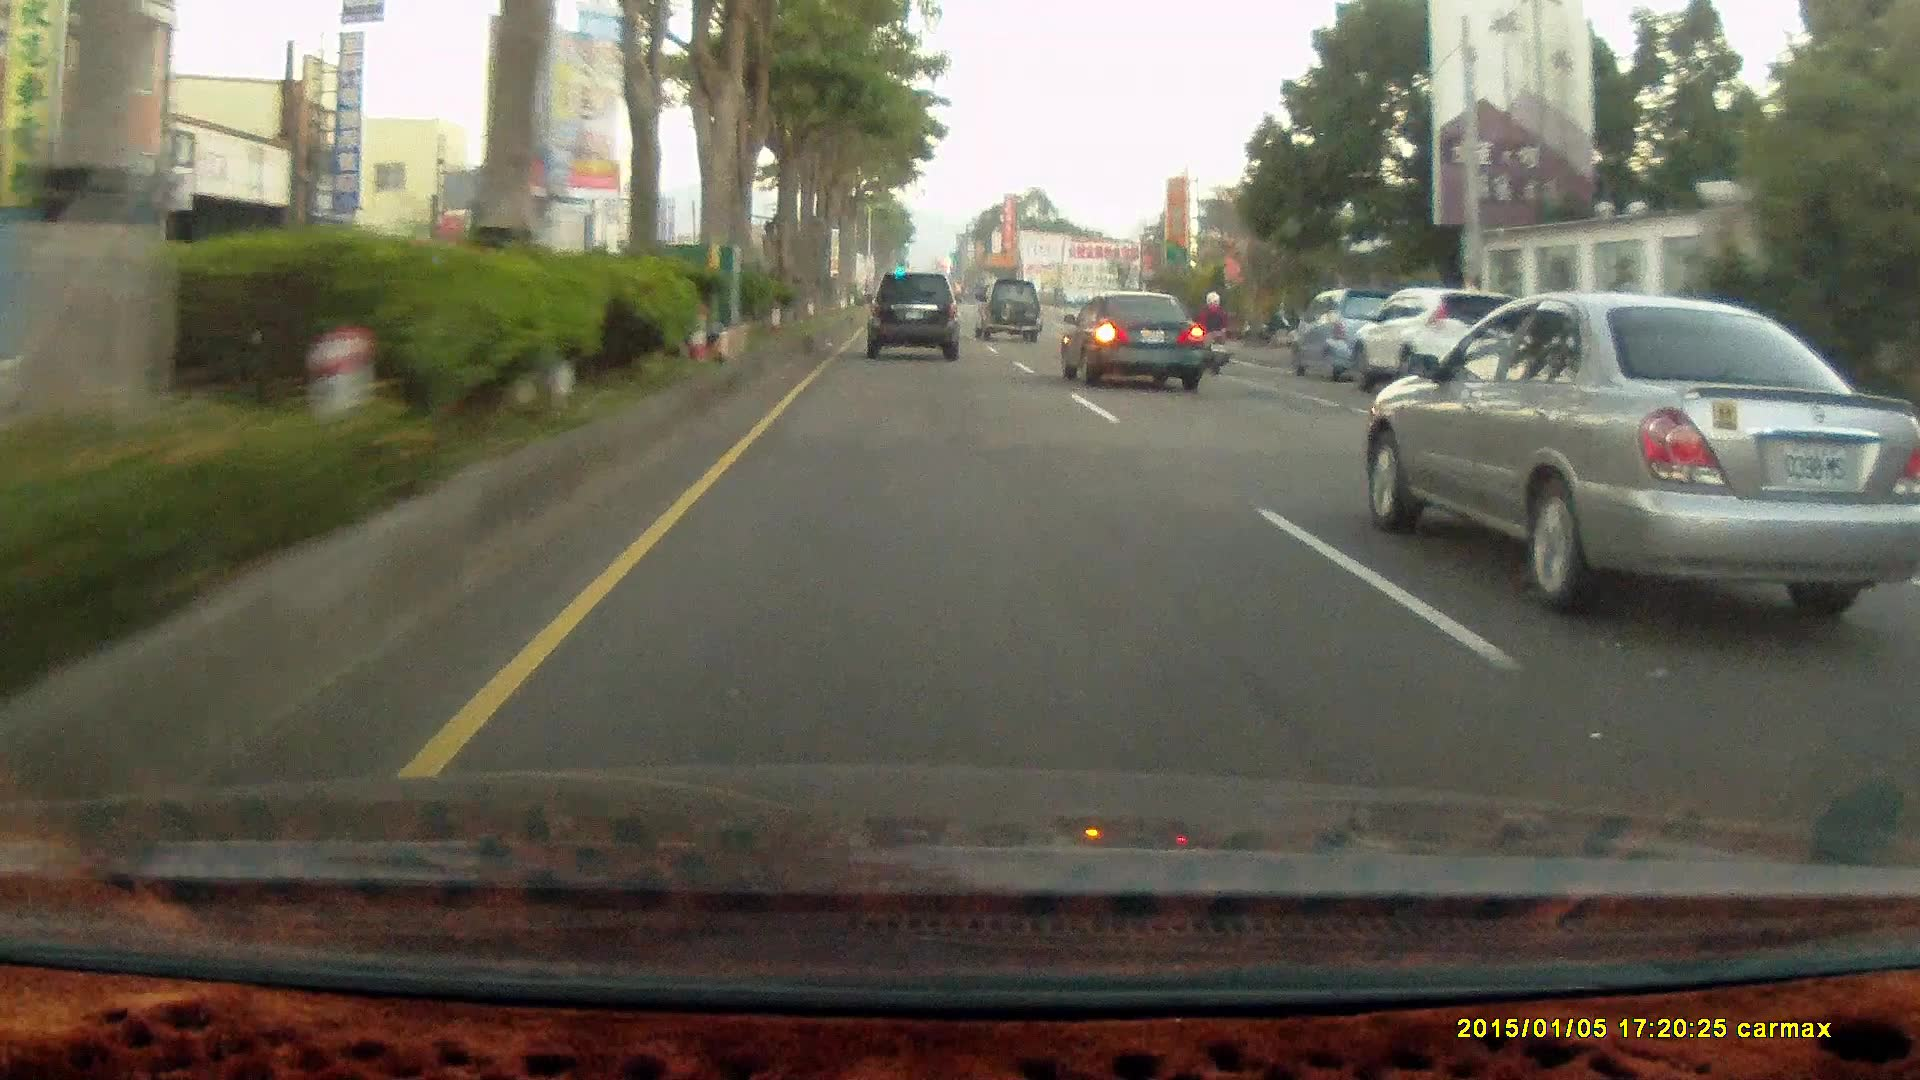rider: (1194, 295, 1234, 380), (1192, 289, 1232, 374)
vehicle: (1365, 299, 1917, 611), (1350, 286, 1532, 394), (1058, 291, 1205, 390), (1062, 293, 1209, 388), (1291, 286, 1421, 380), (1292, 287, 1422, 381), (863, 272, 966, 367), (863, 273, 960, 360), (974, 282, 1046, 347), (973, 282, 1042, 346)
